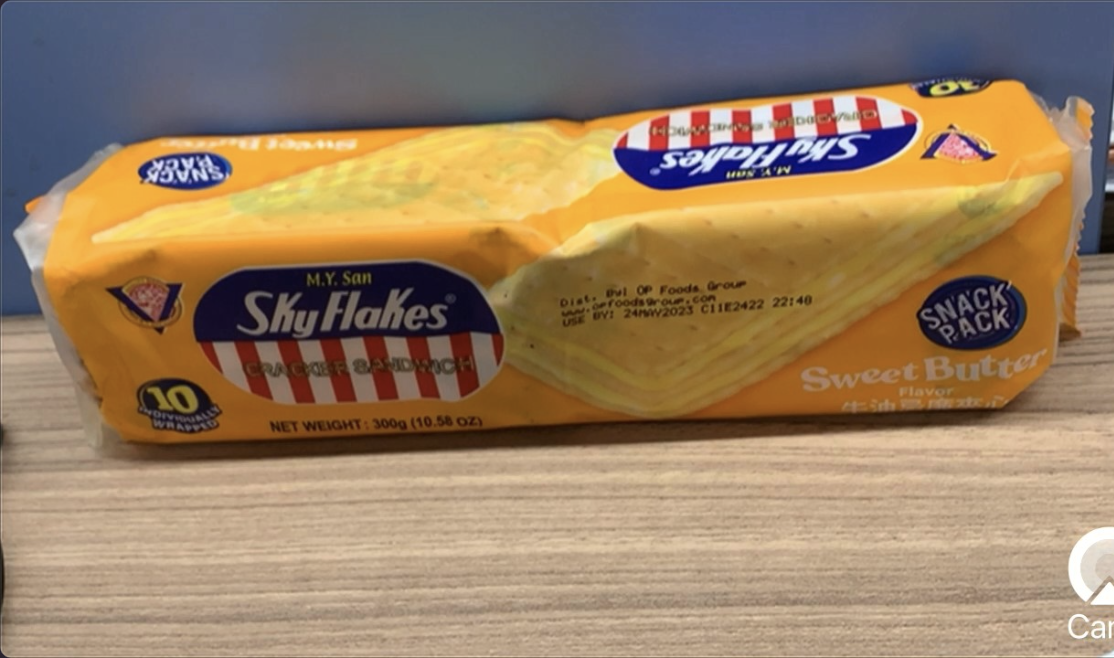crackers_300g-399g: (121, 141, 1031, 413)
